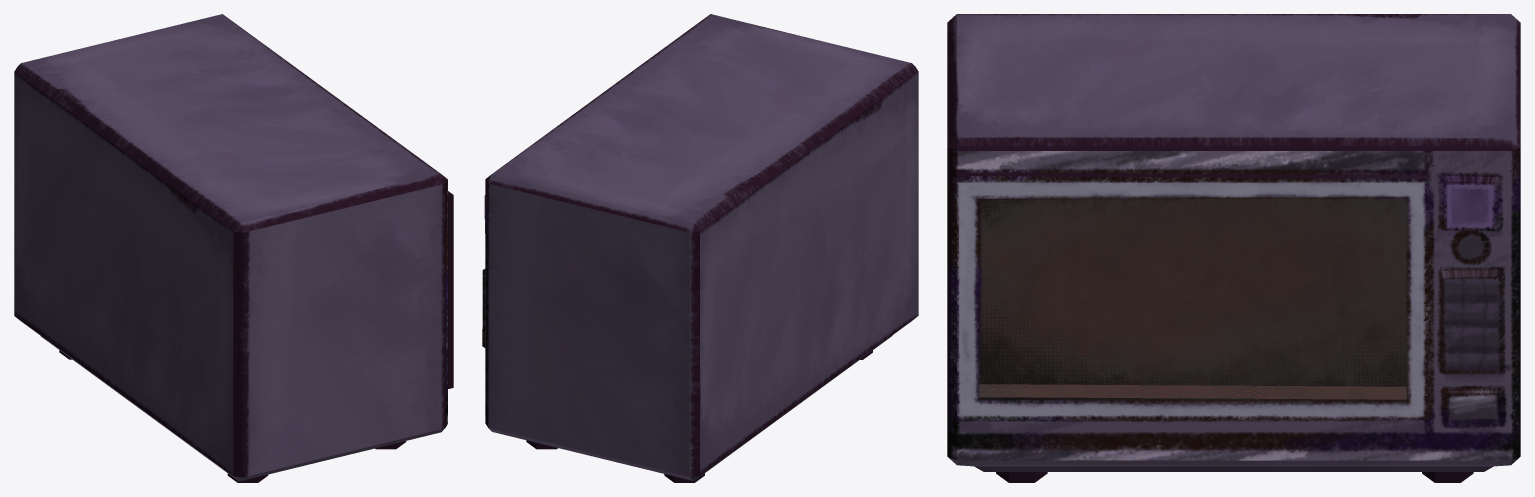
Rendered from microwave.glb.
3 views of the same model, side by side, from view 1: azimuth 30°, elevation 25°; view 2: azimuth 150°, elevation 25°; view 3: azimuth 270°, elevation 25° (orthographic). The views are drawn at different scales.
Visible parts, largest first — view 1: Cube; view 2: Cube; view 3: Cube.
Part boxes in pixels (<box>): Cube: <box>14,14,453,482</box>; Cube: <box>482,14,918,482</box>; Cube: <box>947,14,1520,482</box>.
Size of the model in its own units: 1.8 by 2.16 by 3.18.
1 material, 1 textured.
